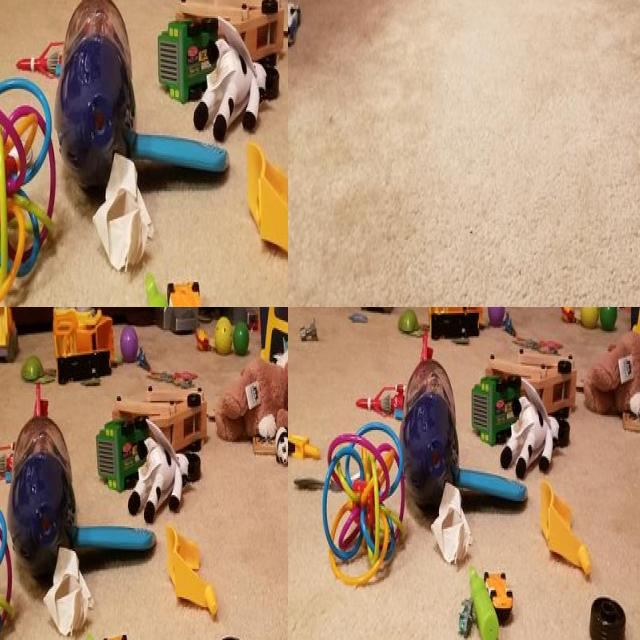toy: (60, 0, 138, 204), (319, 424, 412, 582), (155, 0, 284, 105), (0, 77, 57, 307), (11, 399, 78, 586), (411, 344, 464, 505), (195, 36, 280, 135), (469, 352, 581, 423), (501, 377, 568, 477), (243, 138, 288, 279), (537, 479, 594, 581), (132, 433, 202, 513), (166, 524, 221, 622), (53, 307, 113, 382), (71, 512, 155, 556), (457, 460, 529, 510), (466, 562, 501, 640), (140, 255, 188, 307), (583, 588, 629, 640), (425, 307, 488, 340), (482, 562, 514, 625), (512, 326, 566, 361), (358, 382, 407, 420), (168, 270, 215, 307), (54, 355, 111, 383), (454, 590, 485, 640), (16, 344, 49, 384), (288, 430, 321, 468), (0, 307, 22, 363), (116, 317, 138, 369), (131, 338, 157, 381), (0, 444, 22, 489), (288, 0, 305, 54), (295, 316, 324, 344), (214, 314, 233, 355), (273, 424, 288, 475), (233, 312, 250, 357), (189, 317, 210, 352), (580, 307, 600, 336), (398, 309, 422, 331), (599, 307, 619, 329), (104, 626, 135, 640), (488, 307, 507, 326), (358, 307, 397, 315), (559, 307, 576, 322)
